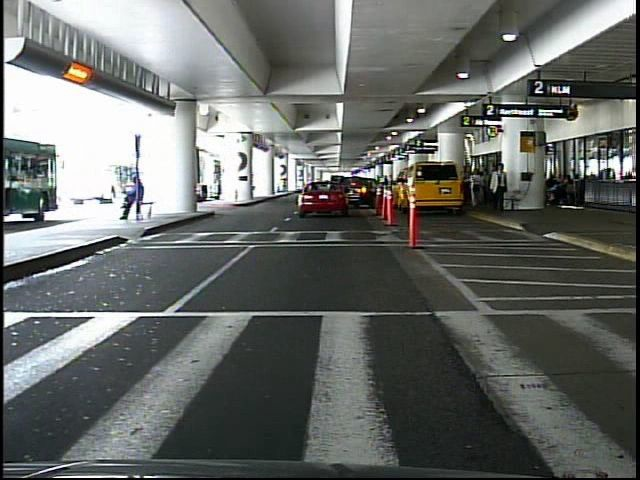person: (492, 160, 511, 212), (470, 166, 484, 210), (482, 167, 493, 209)
